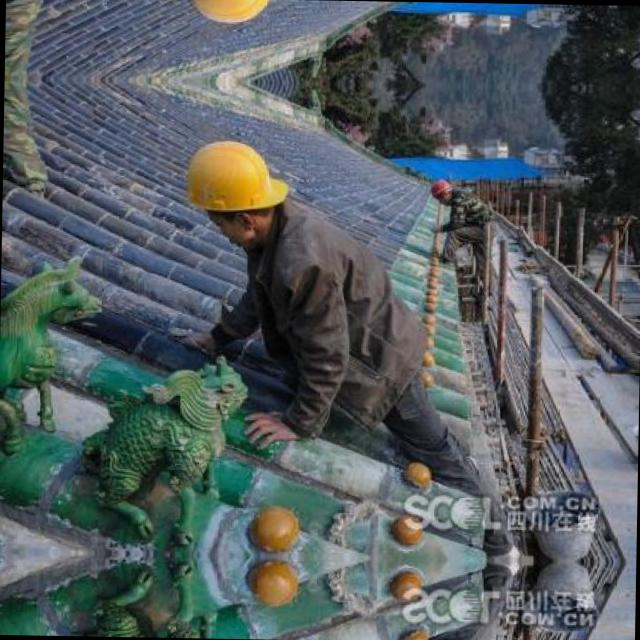helmet: (178, 132, 291, 249), (181, 0, 295, 31), (422, 175, 454, 207)
